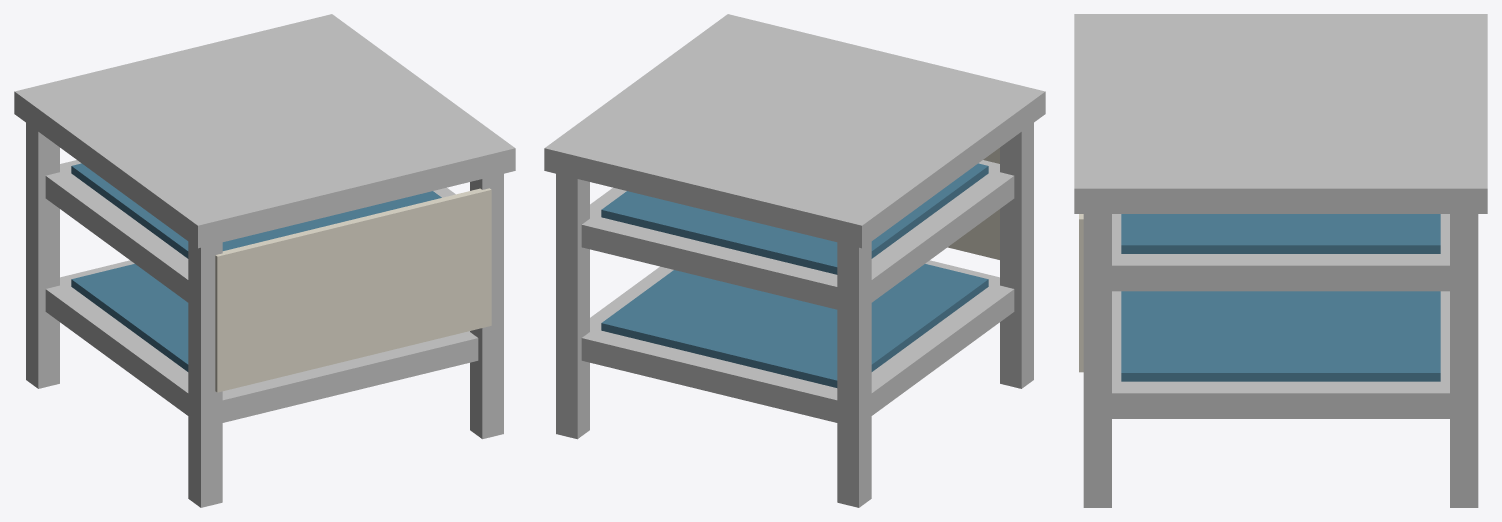
File: passive_cooler.obj
3 views of the same model, side by side, from view 1: azimuth 30°, elevation 25°; view 2: azimuth 150°, elevation 25°; view 3: azimuth 270°, elevation 25° (orthographic). The views are drawn at different scales.
Parts seen in each view (by area): view 1: passive_cooler; view 2: passive_cooler; view 3: passive_cooler.
Part boxes in pixels (bbox=[...]): passive_cooler: bbox=[14, 14, 515, 507]; passive_cooler: bbox=[544, 14, 1045, 507]; passive_cooler: bbox=[1074, 14, 1487, 507].
Size of the model in its own units: 0.88 by 0.76 by 0.88.
